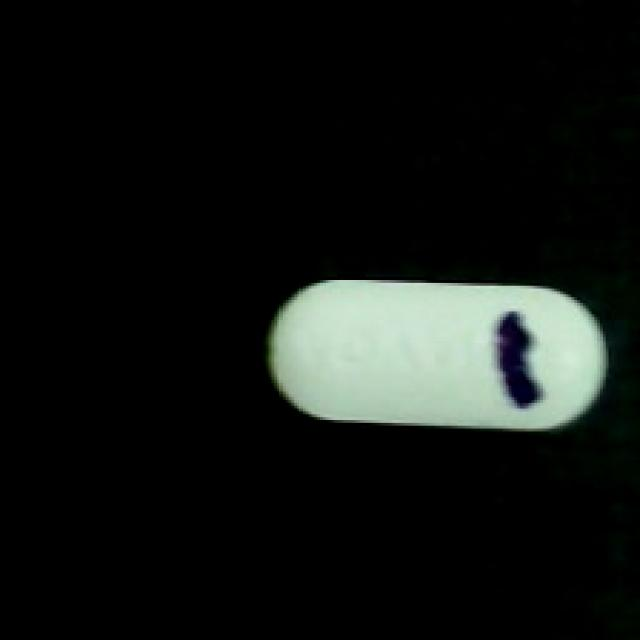defected: (260, 274, 611, 440)
